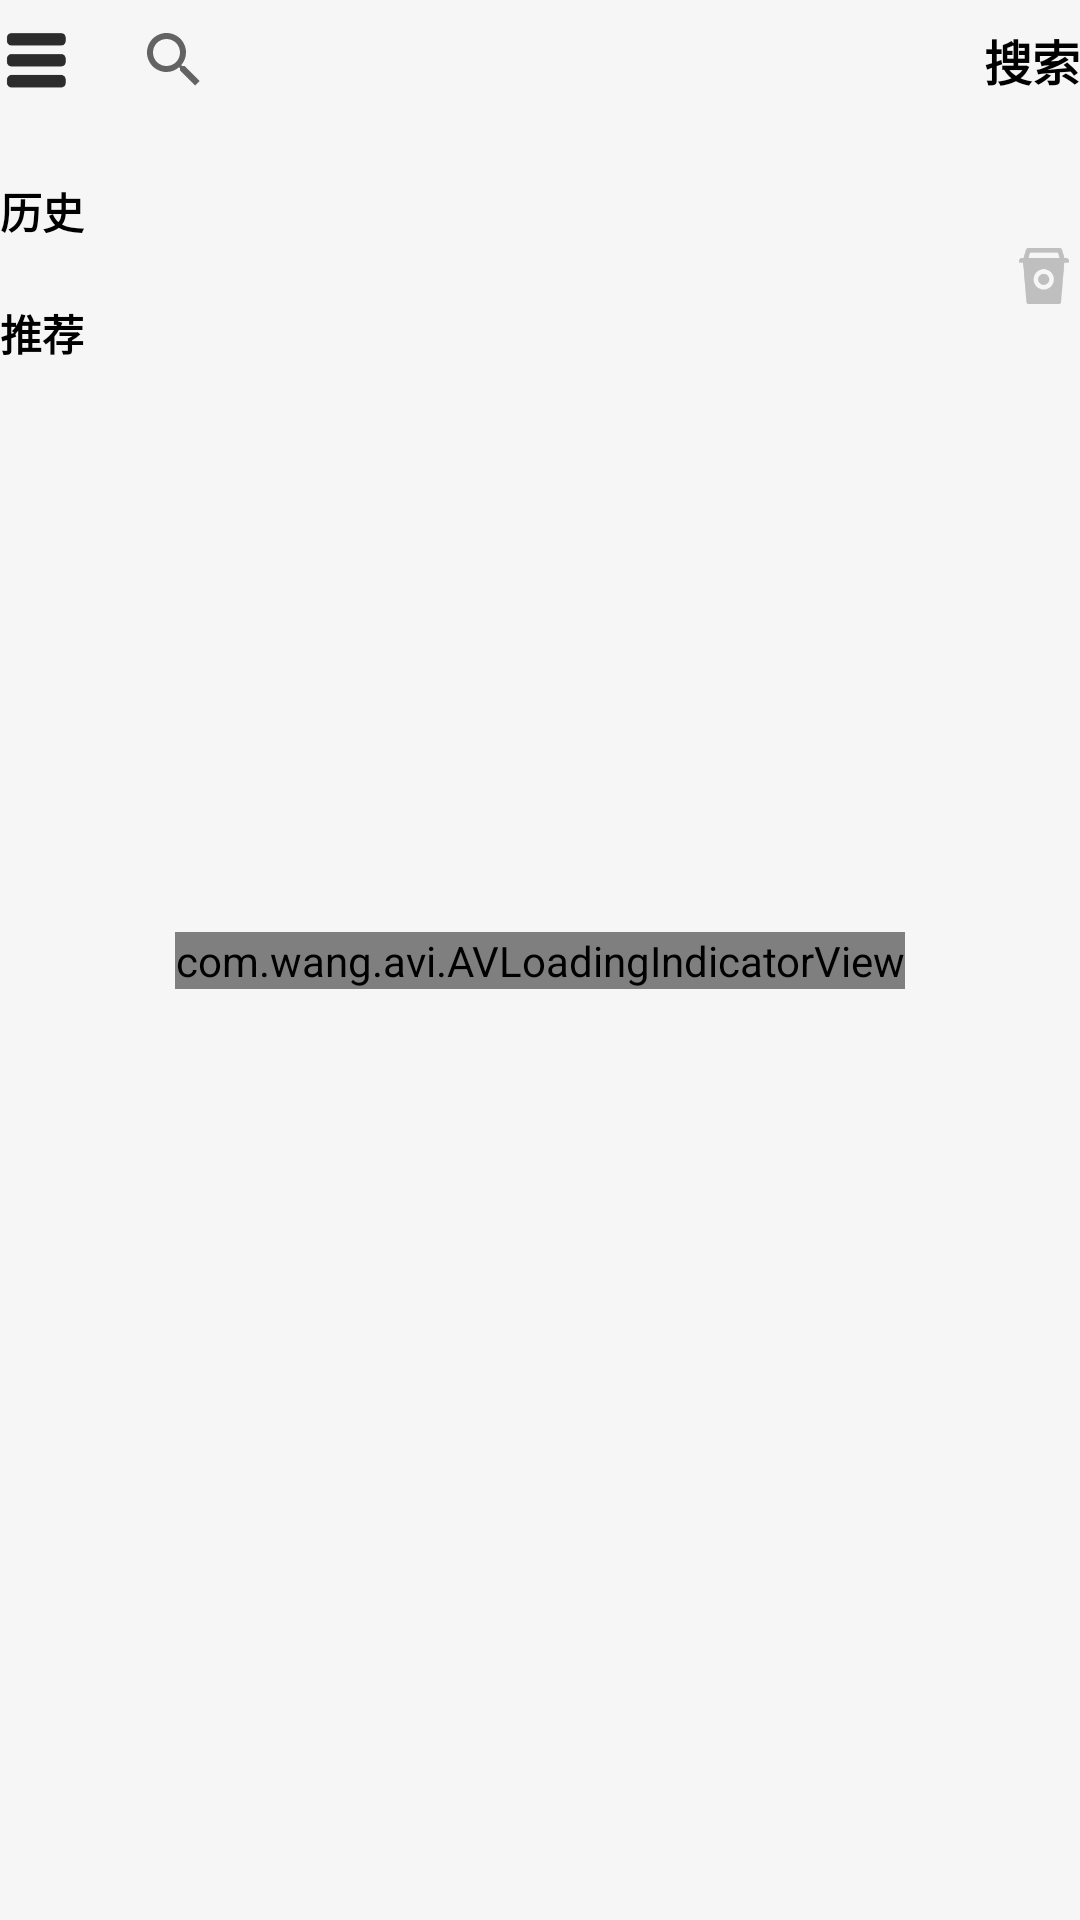

Icons on this 1080px x 1920px Android screen, each with its box as (x1, y1, x2, y2):
list: (7, 33, 66, 88)
refuse bin: (1019, 248, 1069, 304)
